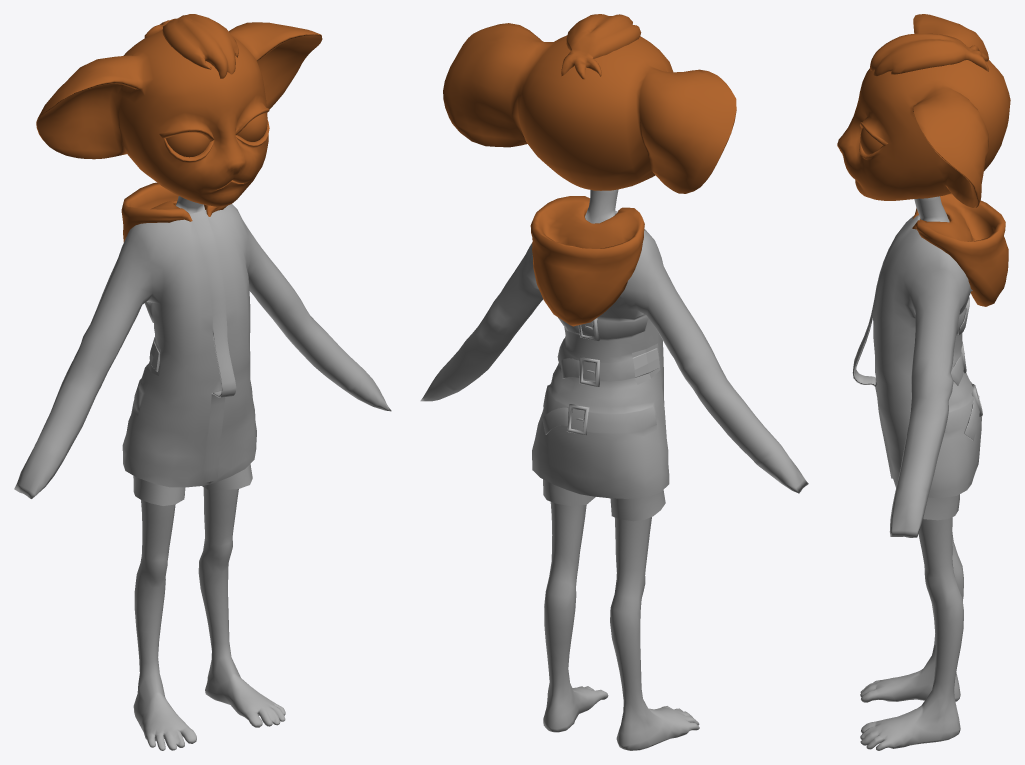
The model's file is MouseBoy_Lowpoly.fbx.
3 views of the same model, side by side, from view 1: azimuth 30°, elevation 25°; view 2: azimuth 150°, elevation 25°; view 3: azimuth 270°, elevation 25° (orthographic). The views are drawn at different scales.
Visible parts, largest first — view 1: BaseShirt_Low, Head_Low, Body_Low, Hair_Low, Hood_Low, Shorts_Low, EyeOuter1; view 2: BaseShirt_Low, Head_Low, Body_Low, Hood_Low, Hair_Low, Shorts_Low, Buckles, EndStraps_Low; view 3: BaseShirt_Low, Head_Low, Body_Low, Hood_Low, Hair_Low, Shorts_Low, EndStraps_Low, EyeOuter1.
Part boxes in pixels (left/top/right/bottom): BaseShirt_Low: left=14, top=204, right=391, bottom=498; Head_Low: left=36, top=22, right=322, bottom=207; Body_Low: left=133, top=196, right=285, bottom=750; Hair_Low: left=144, top=14, right=238, bottom=78; Hood_Low: left=121, top=182, right=227, bottom=242; Shorts_Low: left=133, top=385, right=252, bottom=505; EyeOuter1: left=166, top=113, right=267, bottom=157; BaseShirt_Low: left=420, top=211, right=808, bottom=498; Head_Low: left=443, top=23, right=736, bottom=193; Body_Low: left=543, top=189, right=699, bottom=750; Hood_Low: left=530, top=196, right=644, bottom=326; Hair_Low: left=561, top=14, right=641, bottom=79; Shorts_Low: left=543, top=403, right=665, bottom=521; Buckles: left=567, top=318, right=600, bottom=435; EndStraps_Low: left=542, top=317, right=579, bottom=434; BaseShirt_Low: left=852, top=215, right=981, bottom=537; Head_Low: left=837, top=14, right=1010, bottom=207; Body_Low: left=860, top=196, right=963, bottom=750; Hood_Low: left=912, top=193, right=1008, bottom=306; Hair_Low: left=870, top=33, right=988, bottom=75; Shorts_Low: left=923, top=494, right=959, bottom=520; EndStraps_Low: left=951, top=309, right=979, bottom=440; EyeOuter1: left=860, top=128, right=882, bottom=154.
Size of the model in its own units: 84.24 by 151 by 34.62.
